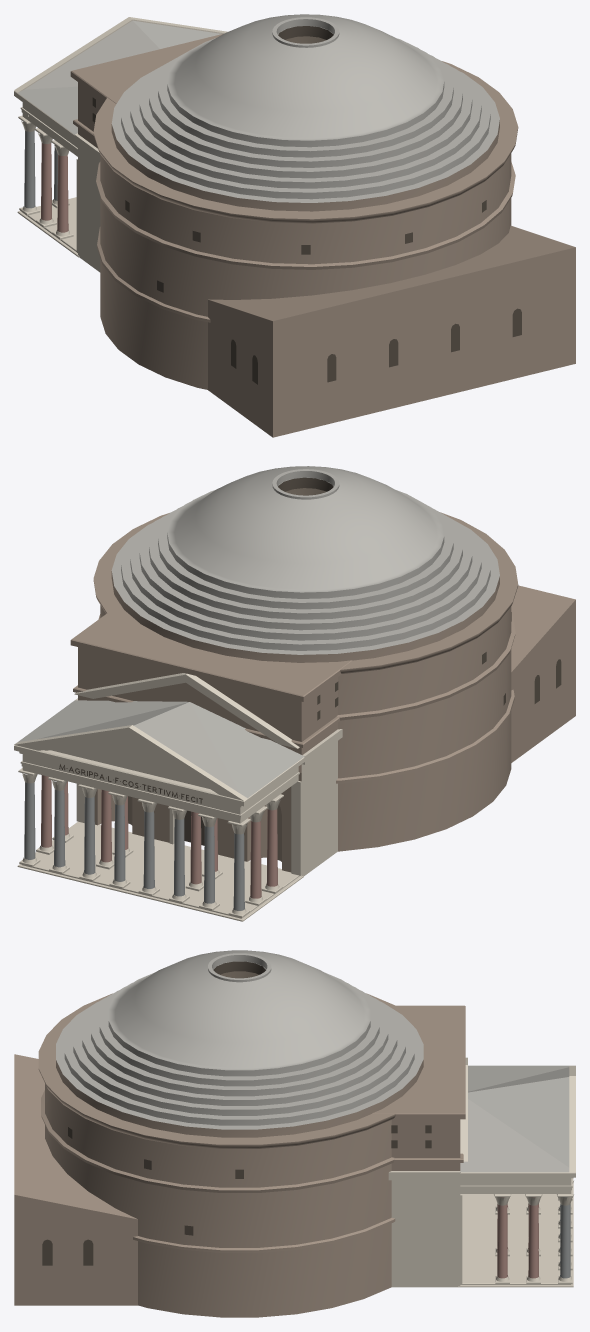
File: rome-pantheon.glb
The picture shows the model from 3 angles, top to bottom: view 1: azimuth 30°, elevation 25°; view 2: azimuth 150°, elevation 25°; view 3: azimuth 270°, elevation 25°; orthographic projection. The views are drawn at different scales.
Parts seen in each view (by area): view 1: Pantheon; view 2: Pantheon; view 3: Pantheon.
Part boxes in pixels (<box>): Pantheon: <box>14,14,575,437</box>; Pantheon: <box>14,466,575,921</box>; Pantheon: <box>14,950,575,1317</box>.
Size of the model in its own units: 59.21 by 43.65 by 82.76.
